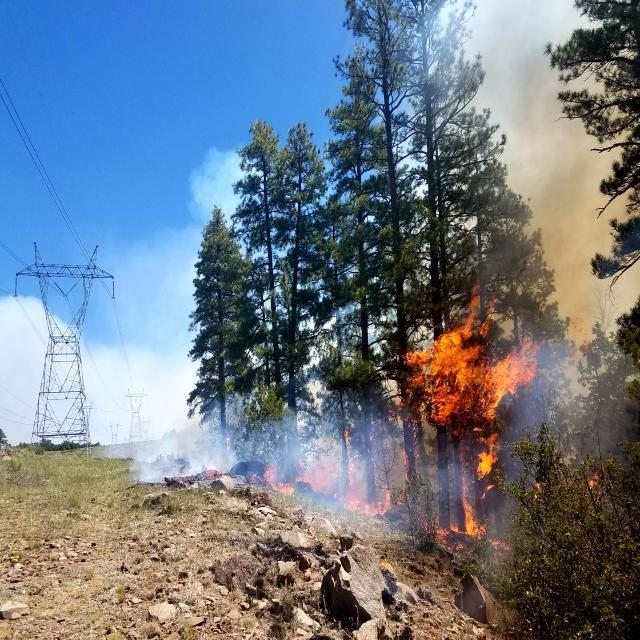Fire: (404, 296, 536, 464)
Smoke: (504, 26, 640, 453), (148, 396, 510, 536)
